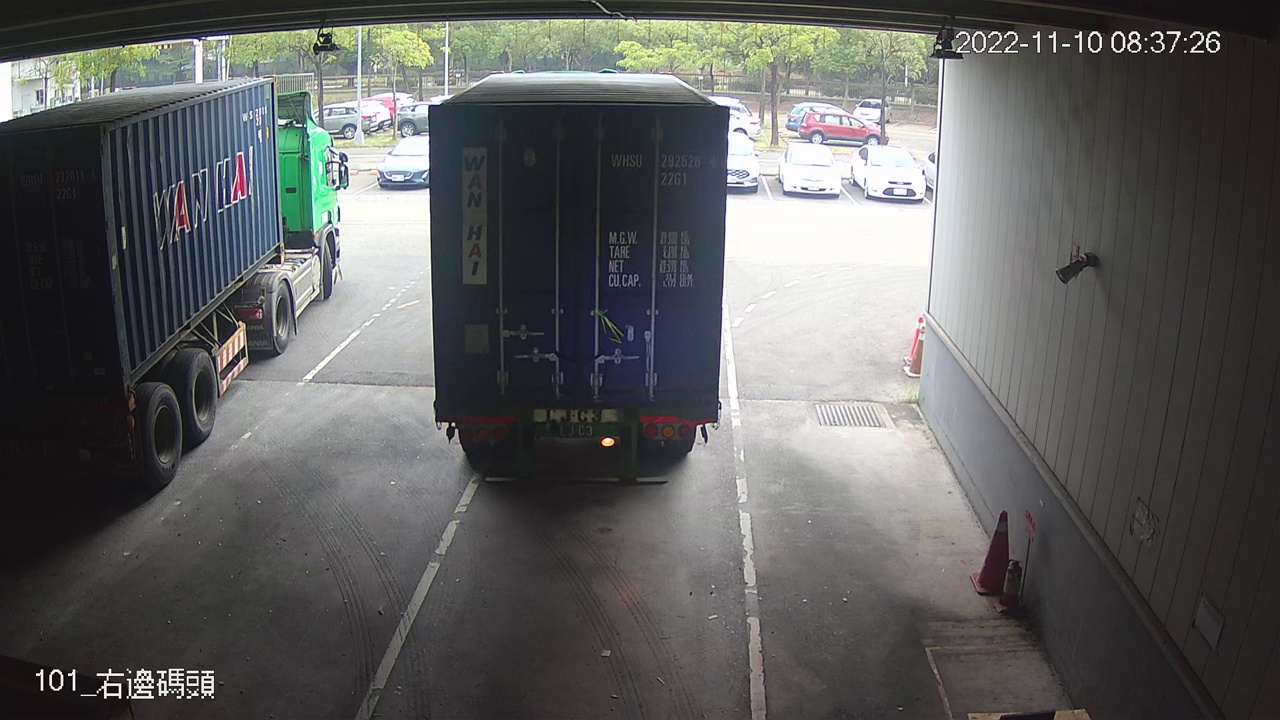container: (607, 148, 724, 190)
